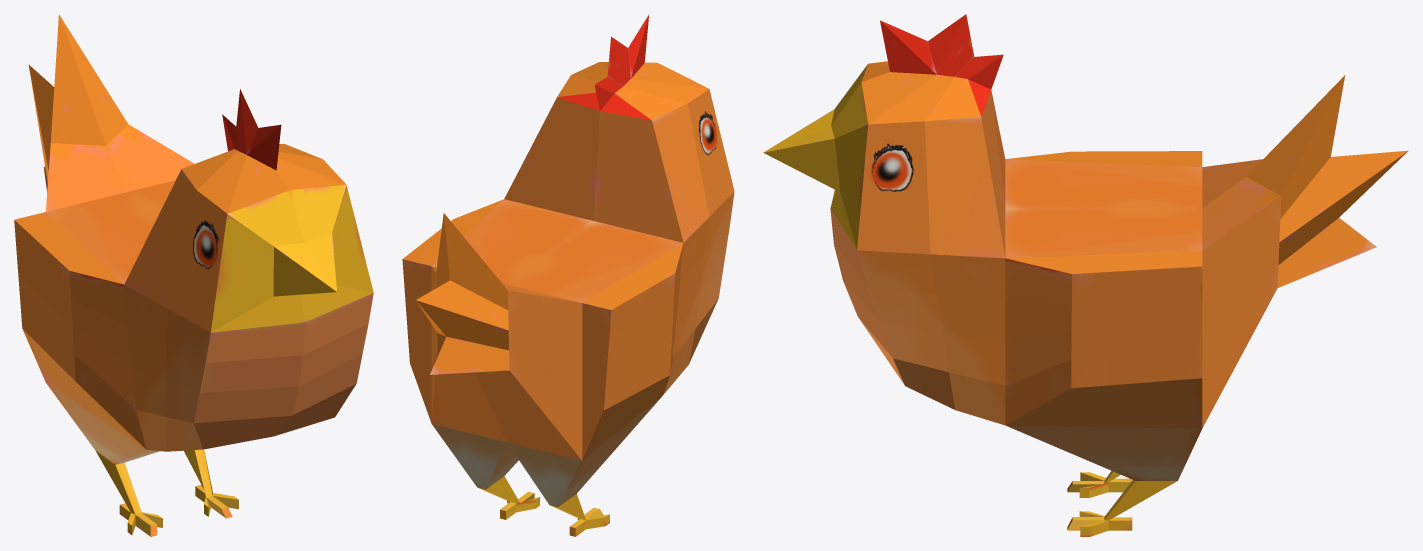
The model's file is chicken.obj.
The picture shows the model from 3 angles, left to right: view 1: azimuth 30°, elevation 25°; view 2: azimuth 150°, elevation 25°; view 3: azimuth 270°, elevation 25°; orthographic projection. The views are drawn at different scales.
Parts seen in each view (by area): view 1: Chicken_Cube; view 2: Chicken_Cube; view 3: Chicken_Cube.
Part boxes in pixels (left/top/right/bottom): Chicken_Cube: left=14, top=14, right=373, bottom=536; Chicken_Cube: left=402, top=14, right=734, bottom=536; Chicken_Cube: left=763, top=14, right=1408, bottom=536.
Bounding box in the file's own units: 2.95 × 5.56 × 6.56.
